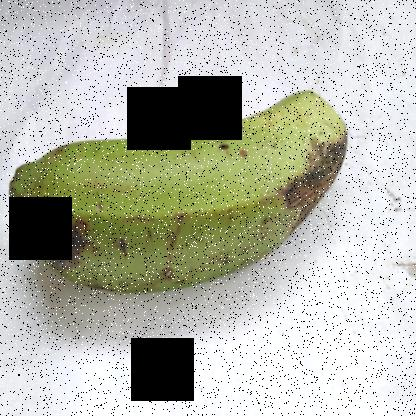rotten: (266, 114, 374, 237)
unripe: (16, 38, 383, 311)
